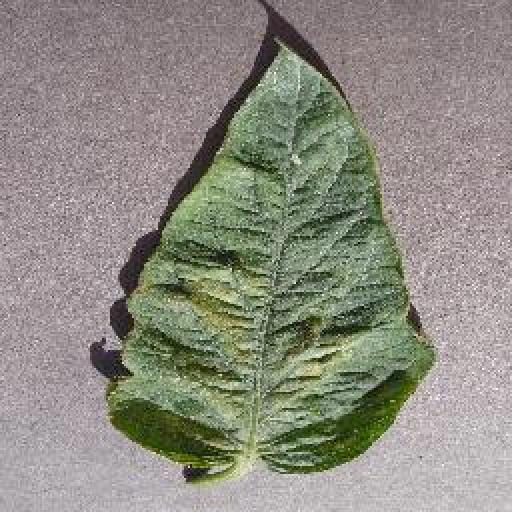disease_tomato: (101, 38, 435, 472)
